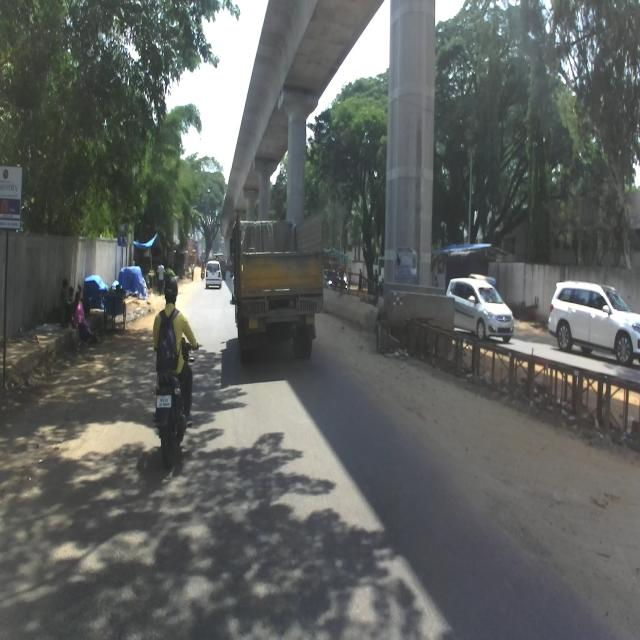Car_Hyundai: (205, 260, 221, 289)
Car_Maruti-Suzuki: (444, 275, 515, 341)
Car_Toyota: (546, 279, 640, 367)
motorcycle_bajaj: (152, 336, 198, 467)
truck: (228, 214, 322, 367)
